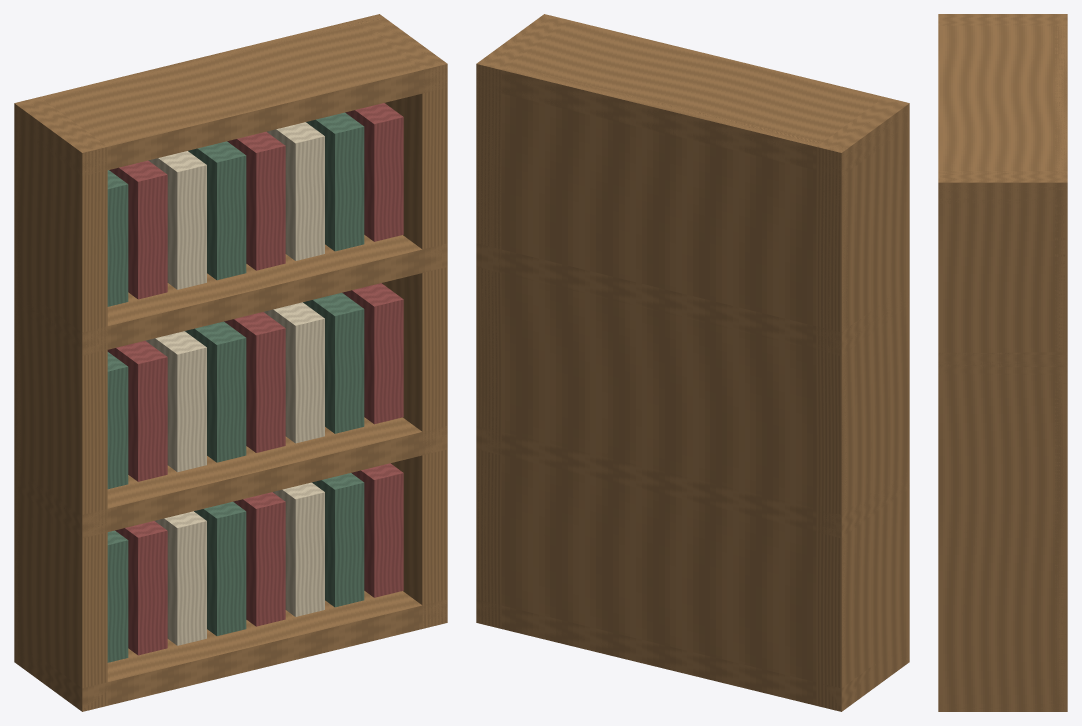
3 views of the same model, side by side, from view 1: azimuth 30°, elevation 25°; view 2: azimuth 150°, elevation 25°; view 3: azimuth 270°, elevation 25° (orthographic). The views are drawn at different scales.
Parts seen in each view (by area): view 1: Regal mit Schulbüchern; view 2: Regal mit Schulbüchern; view 3: Regal mit Schulbüchern.
Boxes of the visible parts, bbox=[...] form: Regal mit Schulbüchern: bbox=[14, 14, 447, 711]; Regal mit Schulbüchern: bbox=[476, 14, 909, 711]; Regal mit Schulbüchern: bbox=[938, 14, 1067, 711].
Size of the model in its own units: 1.3 by 1.9 by 0.42.
Materials: 4 (4 with a texture image).
